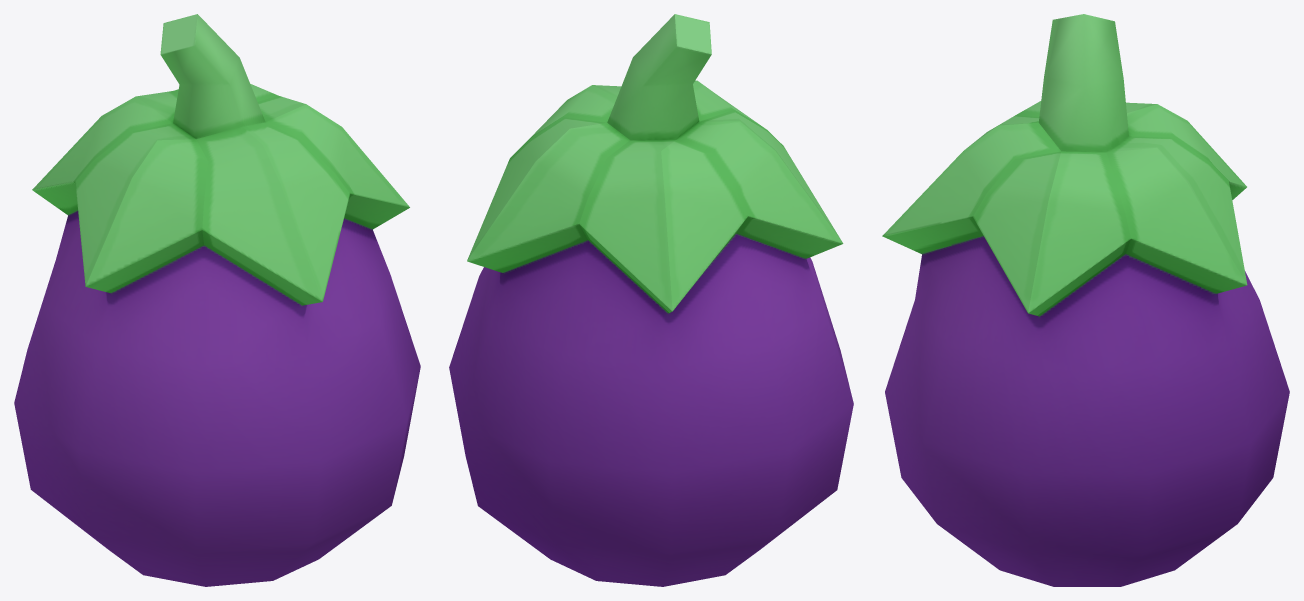
File: Food_Vegetables_Eggplant.gltf
3 renders of one model, left to right at view 1: azimuth 30°, elevation 25°; view 2: azimuth 150°, elevation 25°; view 3: azimuth 270°, elevation 25°, orthographic. The views are drawn at different scales.
Visible parts, largest first — view 1: Food_Vegetables_Eggplant; view 2: Food_Vegetables_Eggplant; view 3: Food_Vegetables_Eggplant.
Part boxes in pixels (left/top/right/bottom): Food_Vegetables_Eggplant: left=14, top=14, right=420, bottom=586; Food_Vegetables_Eggplant: left=449, top=14, right=853, bottom=586; Food_Vegetables_Eggplant: left=882, top=14, right=1289, bottom=586.
Size of the model in its own units: 0.1663 by 0.2584 by 0.1761.
1 material, 1 textured.
